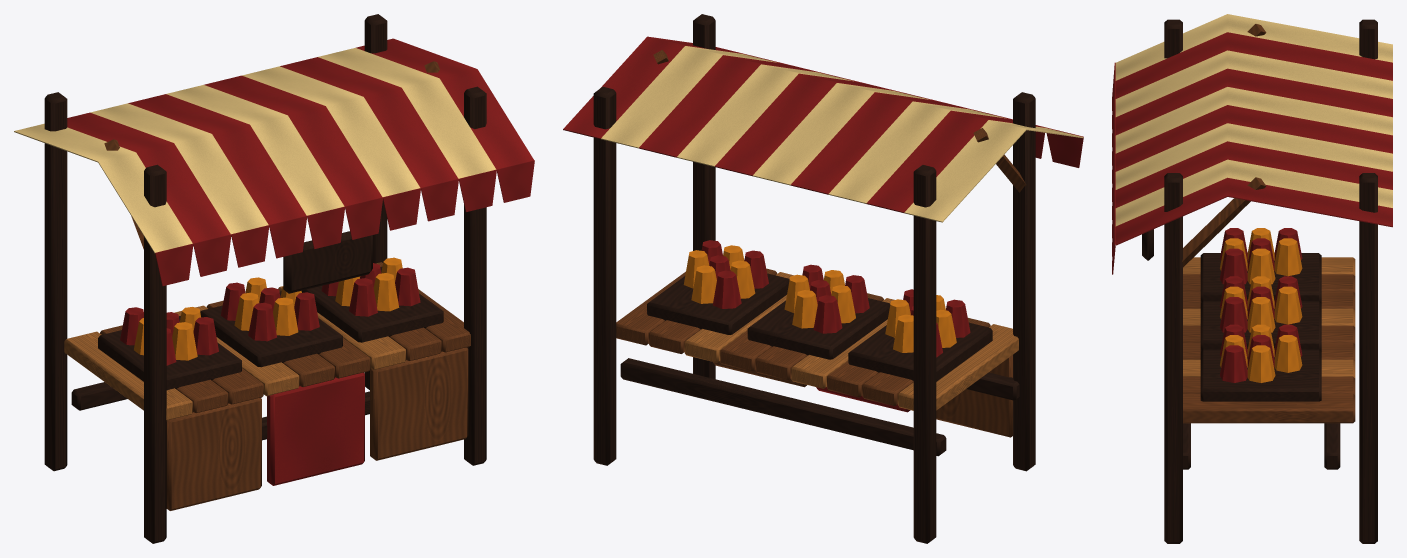
File: Banca_de_frutas_LOD0.fbx
3 renders of one model, left to right at view 1: azimuth 30°, elevation 25°; view 2: azimuth 150°, elevation 25°; view 3: azimuth 270°, elevation 25°, orthographic.
Visible parts, largest first — view 1: Banca_de_frutas_LOD0; view 2: Banca_de_frutas_LOD0; view 3: Banca_de_frutas_LOD0.
Part boxes in pixels (x1=…): Banca_de_frutas_LOD0: x1=14, y1=14, x2=534, y2=543; Banca_de_frutas_LOD0: x1=563, y1=14, x2=1083, y2=543; Banca_de_frutas_LOD0: x1=1112, y1=14, x2=1392, y2=543.
Size of the model in its own units: 320 by 300 by 209.
Materials: 1 (1 with a texture image).
